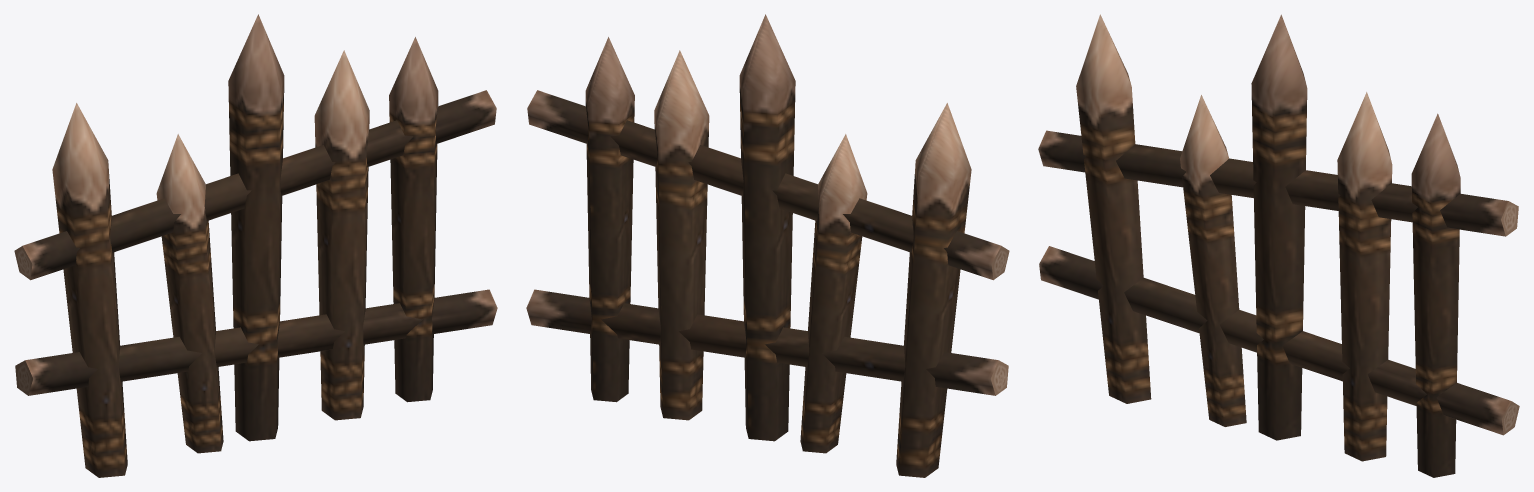
Rendered from ice_fence_3.FBX.
The picture shows the model from 3 angles, left to right: view 1: azimuth 30°, elevation 25°; view 2: azimuth 150°, elevation 25°; view 3: azimuth 330°, elevation 25°; orthographic projection.
Visible parts, largest first — view 1: Object042; view 2: Object042; view 3: Object042.
Boxes of the visible parts, <box> form: Object042: <box>14,14,497,477</box>; Object042: <box>526,14,1009,477</box>; Object042: <box>1038,14,1519,477</box>.
Size of the model in its own units: 89.46 by 9.51 by 76.65.
